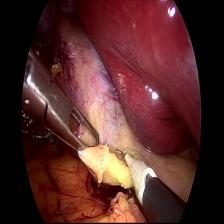Grasper: (21, 49, 100, 153)
Hook: (116, 148, 151, 190)
